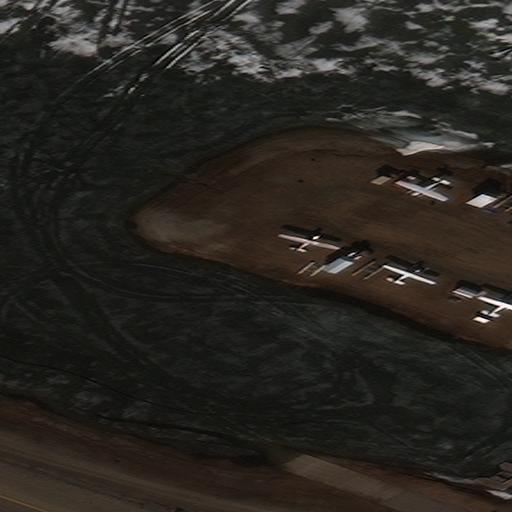Small Civil Transport: (394, 178, 445, 202), (279, 233, 340, 251), (383, 264, 437, 284), (480, 295, 512, 316)
